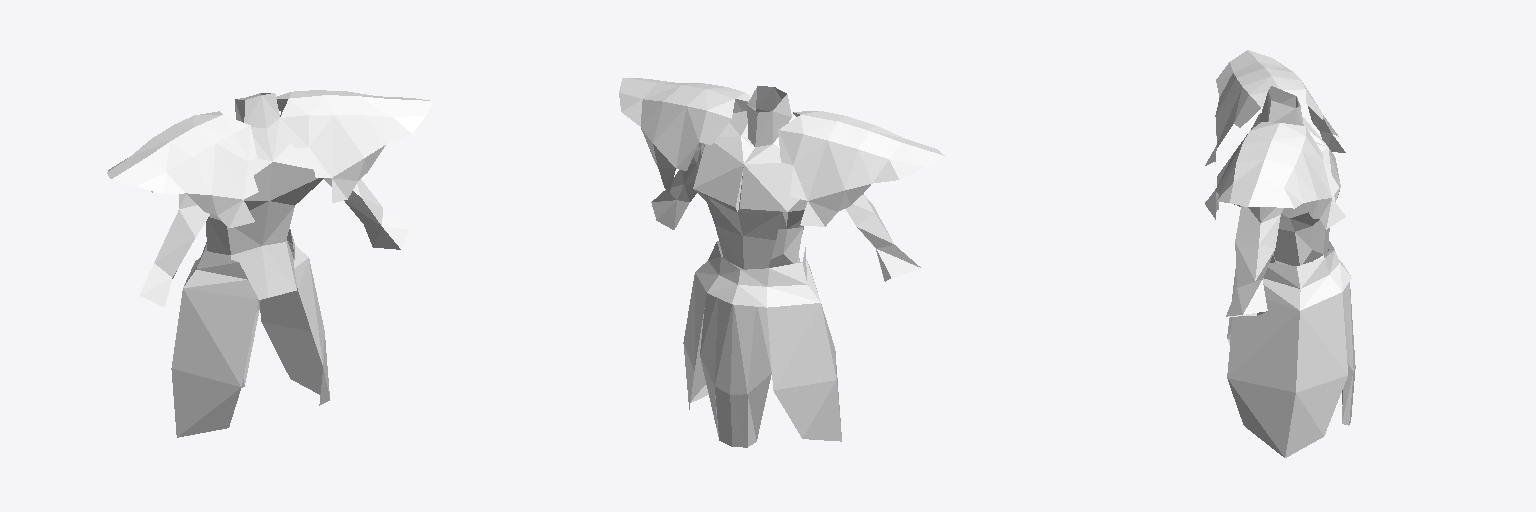
The model's file is 0_kn_armor_17.obj.
3 views of the same model, side by side, from view 1: azimuth 30°, elevation 25°; view 2: azimuth 150°, elevation 25°; view 3: azimuth 270°, elevation 25° (orthographic).
Parts seen in each view (by area): view 1: defaultobject; view 2: defaultobject; view 3: defaultobject.
Part boxes in pixels (x1,y1,x2,y2): defaultobject: (107,90,432,437); defaultobject: (619,78,944,447); defaultobject: (1205,50,1355,457).
Bounding box in the file's own units: 32.28 × 31.57 × 13.11.